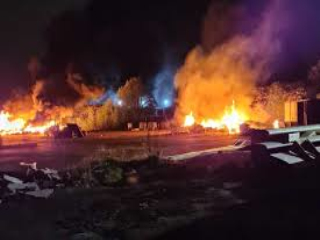fire: (178, 101, 251, 137), (2, 110, 74, 141)
smoke: (176, 19, 306, 101)
